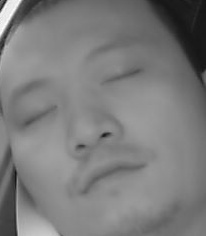blink: (18, 101, 61, 129), (99, 66, 142, 89)
mouth: (75, 157, 147, 194)
